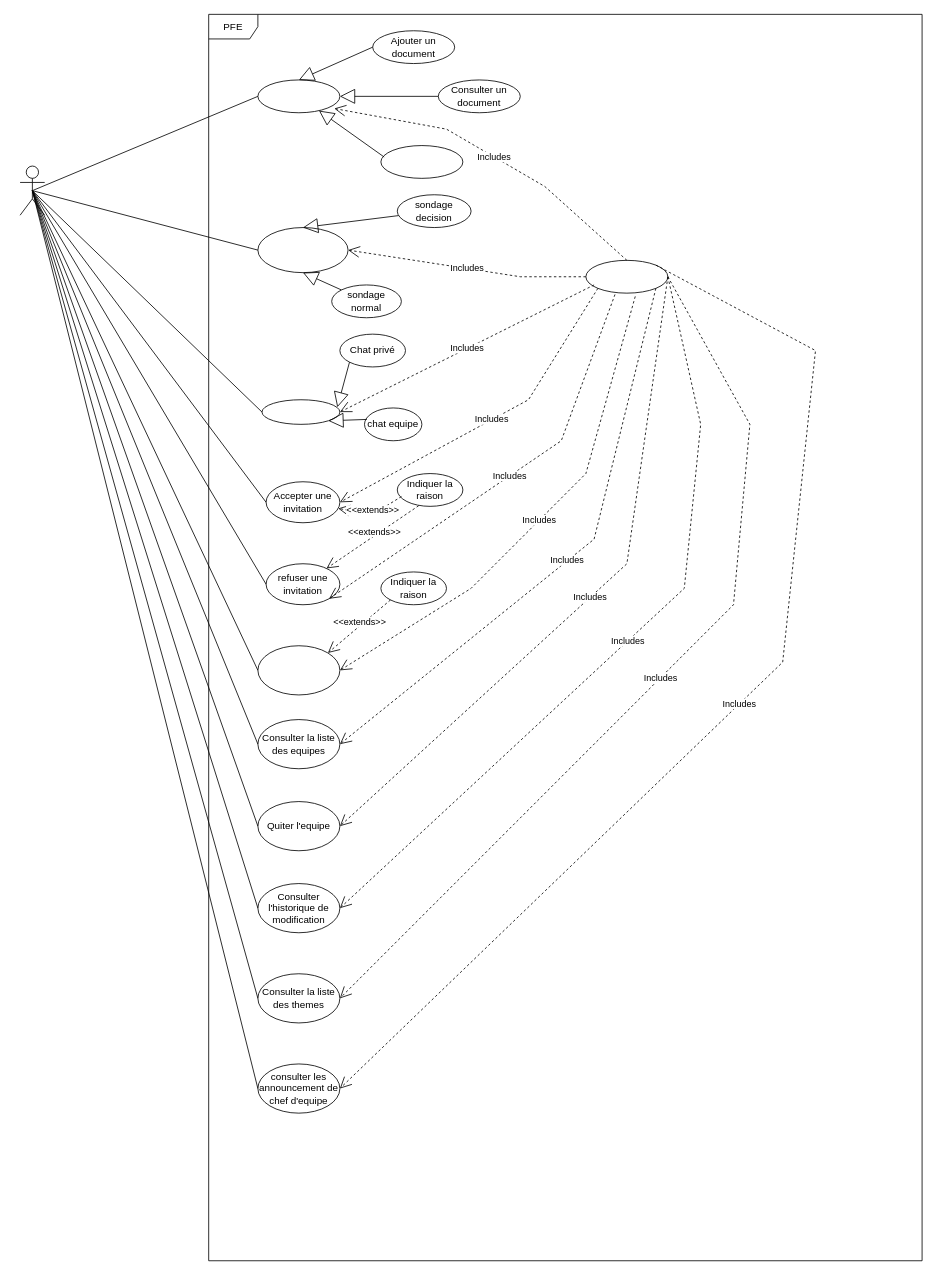
The diagram is 936 pixels wide and 1275 high, and some of its shapes have lost their labels. Here are the shapes that lost their labels. From the top down, the centre of each, then its label:
point 298,96: Manipuler un document
point 421,161: Modifier un document
point 32,190: Etudiant
point 302,250: Participer au sondage
point 626,276: S'authentififier
point 300,411: Echanger
point 298,670: Envoyer demmande inscription
